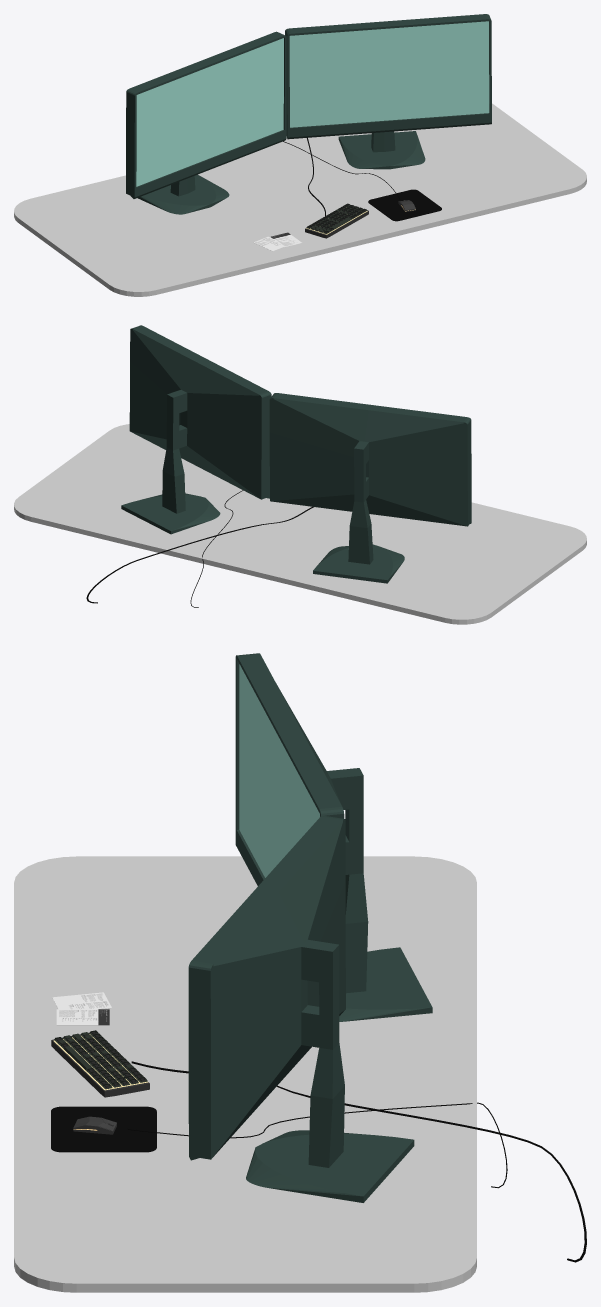
Rendered from room.glb.
3 renders of one model, top to bottom at view 1: azimuth 30°, elevation 25°; view 2: azimuth 150°, elevation 25°; view 3: azimuth 270°, elevation 25°, orthographic. The views are drawn at different scales.
Visible parts, largest first — view 1: Glass Table, Monitor-2, Monitor-1, MousePad, Keyboard; view 2: Glass Table, Monitor-1, Monitor-2, KeyboardCable; view 3: Glass Table, Monitor-2, Monitor-1, MousePad, Keyboard, KeyboardCable, Turkish_Resume, Oğuz_Batur Sarıöz_Resume1-2.
Boxes of the visible parts, x1,y1,x2,y2 form: Glass Table: (14, 103, 586, 296); Monitor-2: (285, 14, 491, 169); Monitor-1: (126, 31, 286, 214); MousePad: (368, 189, 441, 221); Keyboard: (305, 203, 368, 238); Glass Table: (14, 424, 586, 624); Monitor-1: (269, 393, 471, 583); Monitor-2: (121, 325, 271, 534); KeyboardCable: (86, 506, 313, 603); Glass Table: (14, 856, 476, 1292); Monitor-2: (188, 815, 414, 1202); Monitor-1: (235, 653, 432, 1021); MousePad: (51, 1106, 156, 1152); Keyboard: (51, 1030, 149, 1097); KeyboardCable: (131, 1061, 586, 1262); Turkish_Resume: (56, 1009, 109, 1025); Oğuz_Batur Sarıöz_Resume1-2: (52, 992, 111, 1009).
Bounding box in the file's own units: 19.09 × 7.31 × 10.82.
10 materials, 2 textured.
